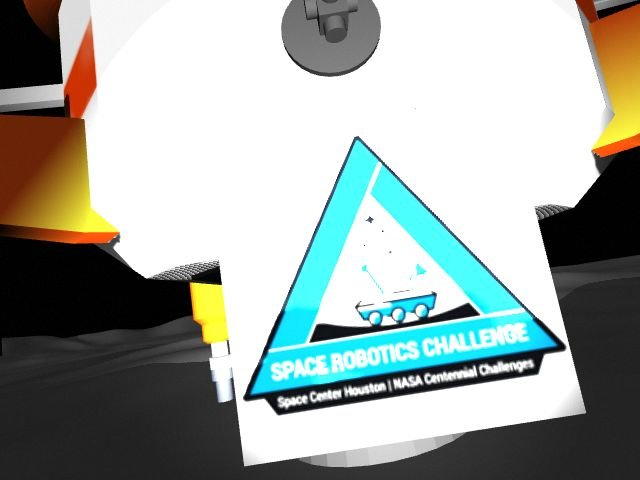basemarker: (243, 134, 567, 416)
